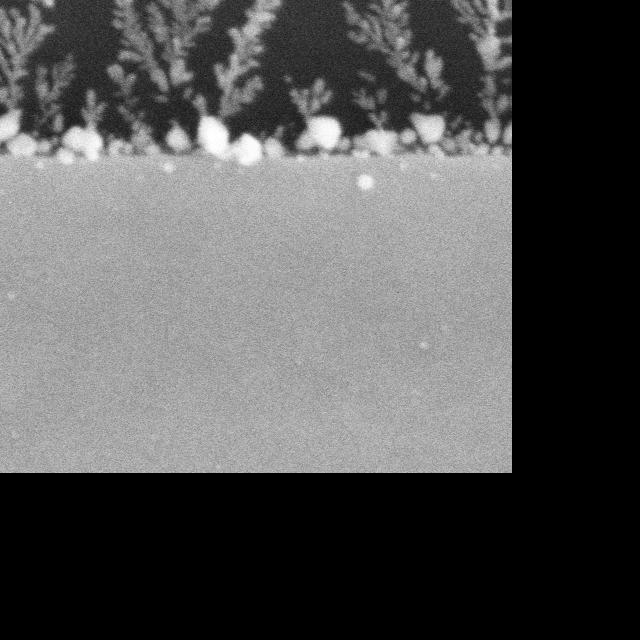Dendrite: (113, 0, 232, 121), (343, 0, 445, 108), (0, 0, 72, 125), (218, 0, 280, 116), (0, 111, 104, 163), (108, 65, 160, 154), (285, 76, 341, 152), (352, 70, 401, 155), (230, 120, 295, 165), (65, 89, 105, 158), (409, 112, 471, 154), (198, 115, 229, 157), (164, 123, 192, 153)
